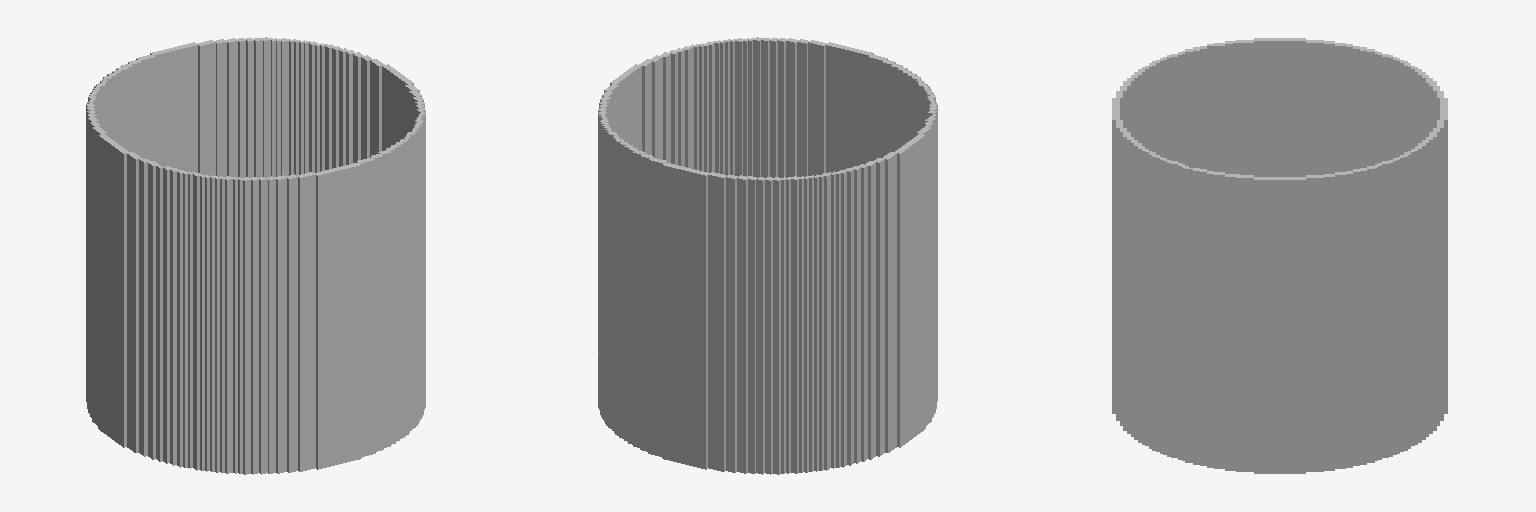
The model's file is 2 лвл-30.obj.
The picture shows the model from 3 angles: view 1: azimuth 30°, elevation 25°; view 2: azimuth 150°, elevation 25°; view 3: azimuth 270°, elevation 25°; orthographic projection.
Parts seen in each view (by area): view 1: object 1; view 2: object 1; view 3: object 1.
Boxes of the visible parts, x1,y1,x2,y2 form: object 1: [86, 37, 425, 474]; object 1: [598, 37, 937, 474]; object 1: [1112, 38, 1447, 473].
Bounding box in the file's own units: 9.2 × 8.9 × 9.2.